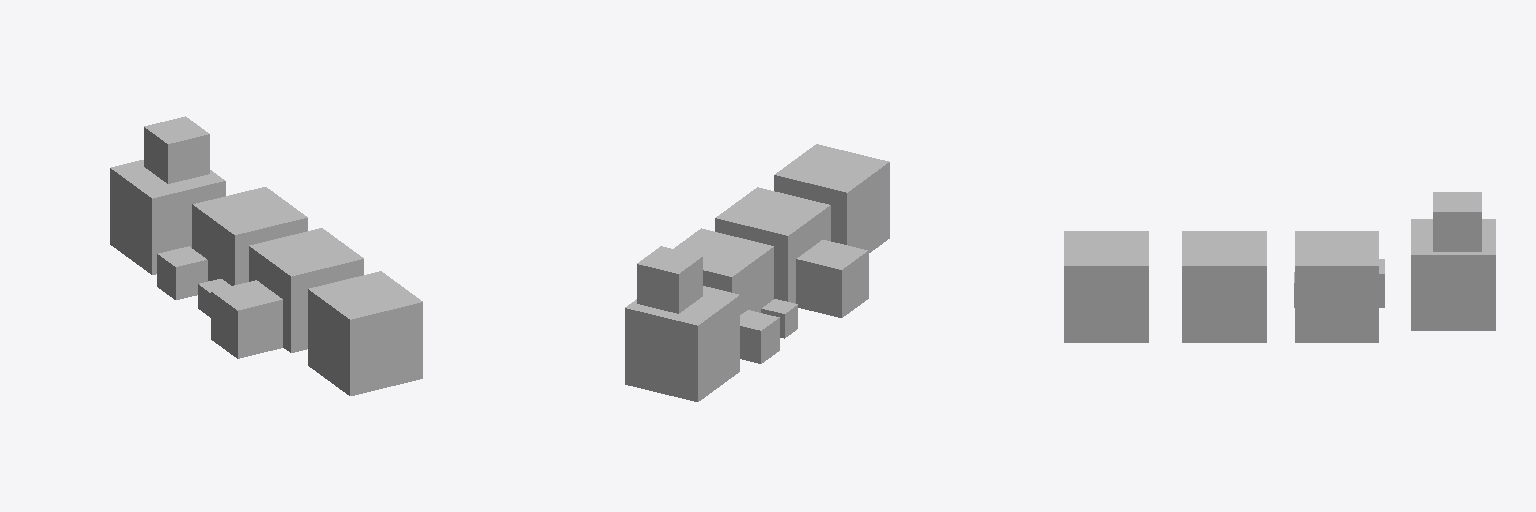
The model's file is Crates_OBJ.obj.
The picture shows the model from 3 angles: view 1: azimuth 30°, elevation 25°; view 2: azimuth 150°, elevation 25°; view 3: azimuth 270°, elevation 25°; orthographic projection.
Parts seen in each view (by area): view 1: Crates polySurface8, Crates polySurface3, Crates polySurface7, polySurface1 Crates, Crates polySurface6, Crates polySurface2, Crates polySurface4, Crates polySurface5; view 2: Crates polySurface3, Crates polySurface8, Crates polySurface7, polySurface1 Crates, Crates polySurface6, Crates polySurface2, Crates polySurface4, Crates polySurface5; view 3: Crates polySurface7, Crates polySurface8, polySurface1 Crates, Crates polySurface3, Crates polySurface2.
Part boxes in pixels (x1,y1,x2,y2): Crates polySurface8: (308, 271, 422, 395); Crates polySurface3: (110, 160, 225, 274); Crates polySurface7: (249, 228, 363, 352); polySurface1 Crates: (192, 187, 307, 285); Crates polySurface6: (211, 280, 282, 358); Crates polySurface2: (144, 116, 209, 183); Crates polySurface4: (157, 246, 207, 299); Crates polySurface5: (198, 279, 230, 317); Crates polySurface3: (625, 286, 739, 401); Crates polySurface8: (774, 144, 889, 252); Crates polySurface7: (715, 187, 830, 303); polySurface1 Crates: (674, 228, 773, 314); Crates polySurface6: (796, 240, 868, 317); Crates polySurface2: (637, 246, 702, 313); Crates polySurface4: (740, 310, 779, 363); Crates polySurface5: (761, 299, 797, 338); Crates polySurface7: (1182, 231, 1266, 342); Crates polySurface8: (1064, 231, 1148, 342); polySurface1 Crates: (1295, 231, 1378, 342); Crates polySurface3: (1411, 219, 1495, 330); Crates polySurface2: (1433, 192, 1481, 251).
Bounding box in the file's own units: 2.76 × 2.59 × 8.68.